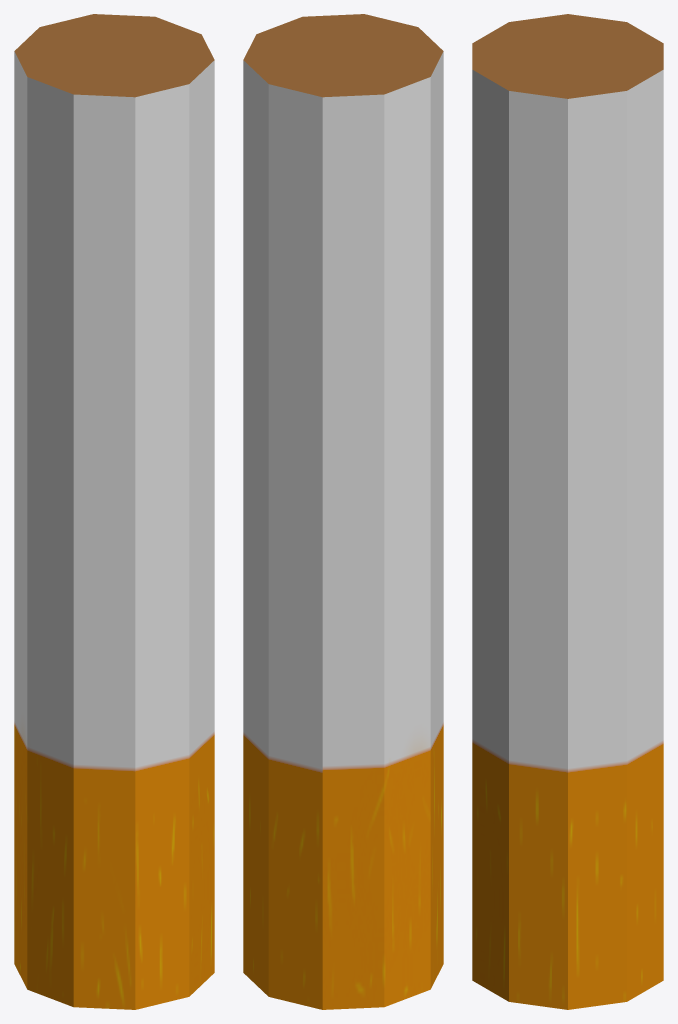
The model's file is cigarette.obj.
The picture shows the model from 3 angles, left to right: view 1: azimuth 30°, elevation 25°; view 2: azimuth 150°, elevation 25°; view 3: azimuth 270°, elevation 25°; orthographic projection.
Visible parts, largest first — view 1: pCylinder1; view 2: pCylinder1; view 3: pCylinder1.
Part boxes in pixels (bbox=[...]): pCylinder1: bbox=[14, 14, 214, 1009]; pCylinder1: bbox=[243, 14, 443, 1009]; pCylinder1: bbox=[472, 14, 663, 1009].
Bounding box in the file's own units: 2 × 10 × 1.9.
1 material, 1 textured.
